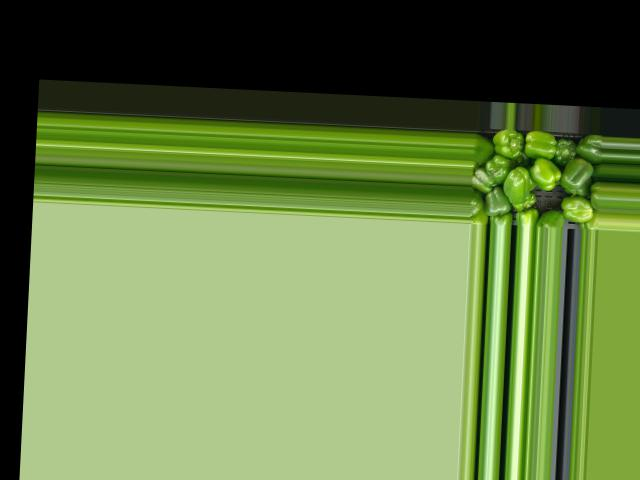bell_pepper: (471, 141, 493, 169)
